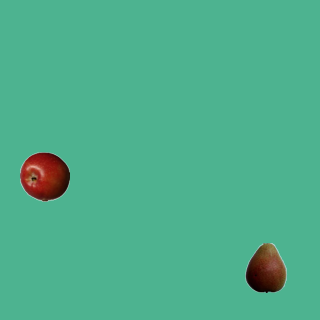Apple Braeburn: (19, 151, 69, 201)
Pear Forelle: (240, 242, 290, 292)
